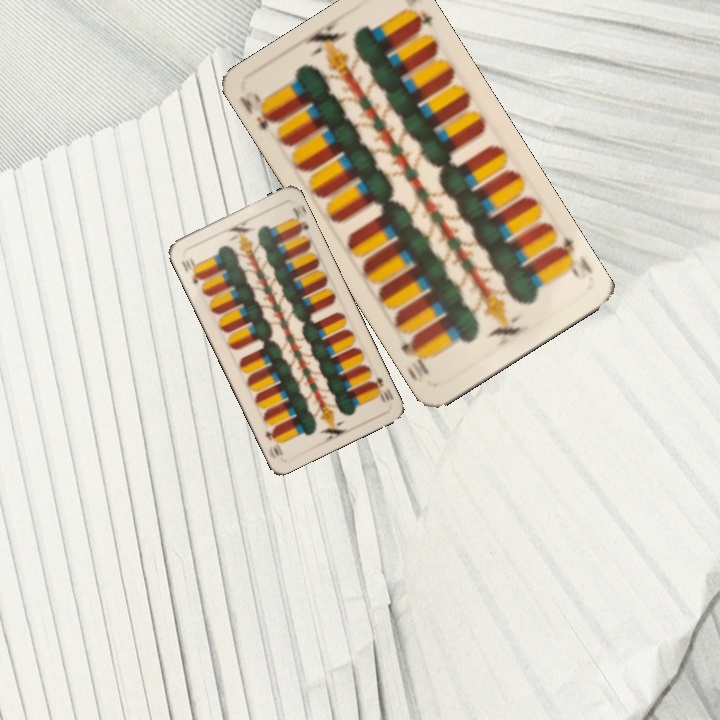E10: (235, 87, 282, 133), (549, 233, 582, 282), (366, 372, 396, 406), (177, 254, 205, 286)
